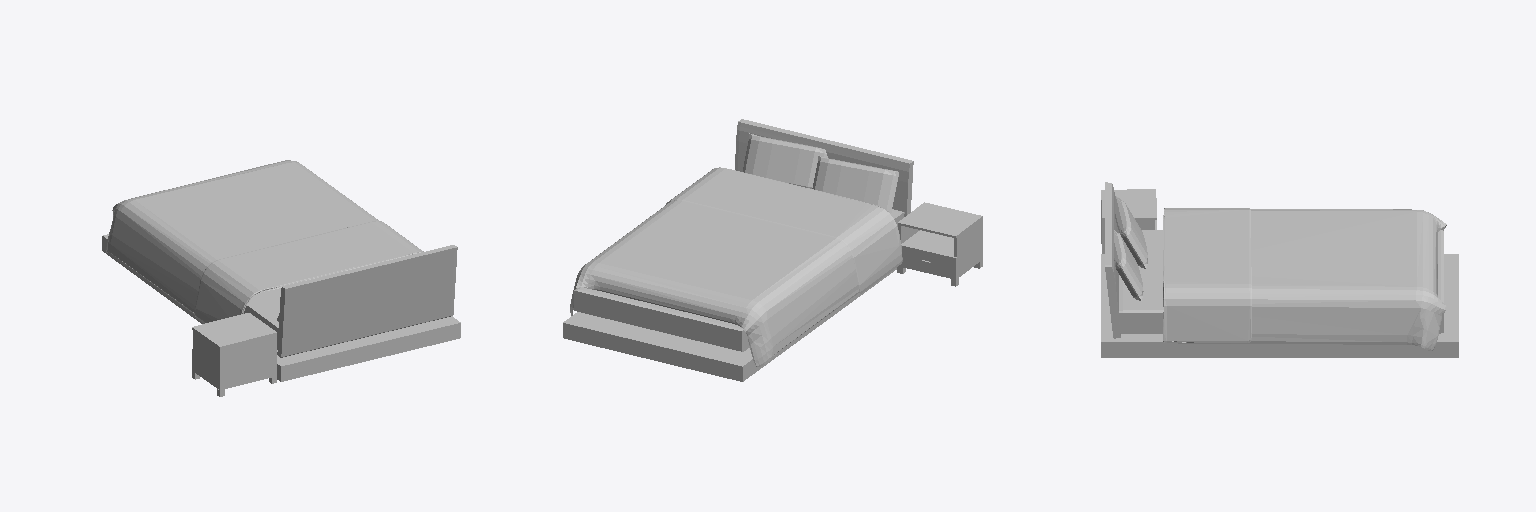
Rendered from bed.obj.
The picture shows the model from 3 angles: view 1: azimuth 30°, elevation 25°; view 2: azimuth 150°, elevation 25°; view 3: azimuth 270°, elevation 25°; orthographic projection.
Visible parts, largest first — view 1: Plane.002_Plane.008, Cube.003_Cube.004, Cube.004_Cube.016, Cube.001_Cube.007, Cube.002_Cube.006; view 2: Plane.002_Plane.008, Cube.001_Cube.007, Cube.004_Cube.016, Cube.002_Cube.006, Cube.003_Cube.004, Cube.005, Cube.000_Cube.008; view 3: Plane.002_Plane.008, Cube.001_Cube.007, Cube.002_Cube.006, Cube.003_Cube.004, Cube.004_Cube.016, Cube.005, Cube.000_Cube.008.
Part boxes in pixels (bbox=[...]): Plane.002_Plane.008: bbox=[106, 160, 423, 323]; Cube.003_Cube.004: bbox=[277, 245, 457, 357]; Cube.004_Cube.016: bbox=[192, 313, 276, 396]; Cube.001_Cube.007: bbox=[102, 234, 460, 381]; Cube.002_Cube.006: bbox=[244, 288, 280, 349]; Plane.002_Plane.008: bbox=[570, 167, 902, 366]; Cube.001_Cube.007: bbox=[563, 268, 896, 381]; Cube.004_Cube.016: bbox=[897, 202, 982, 286]; Cube.002_Cube.006: bbox=[574, 209, 904, 351]; Cube.003_Cube.004: bbox=[735, 119, 913, 216]; Cube.005: bbox=[812, 155, 898, 213]; Cube.000_Cube.008: bbox=[743, 133, 827, 188]; Plane.002_Plane.008: bbox=[1163, 208, 1446, 350]; Cube.001_Cube.007: bbox=[1101, 254, 1458, 357]; Cube.002_Cube.006: bbox=[1119, 230, 1443, 333]; Cube.003_Cube.004: bbox=[1105, 182, 1120, 338]; Cube.004_Cube.016: bbox=[1101, 189, 1156, 253]; Cube.005: bbox=[1115, 196, 1147, 268]; Cube.000_Cube.008: bbox=[1114, 230, 1143, 300].
Bounding box in the file's own units: 2.45 × 0.8368 × 3.